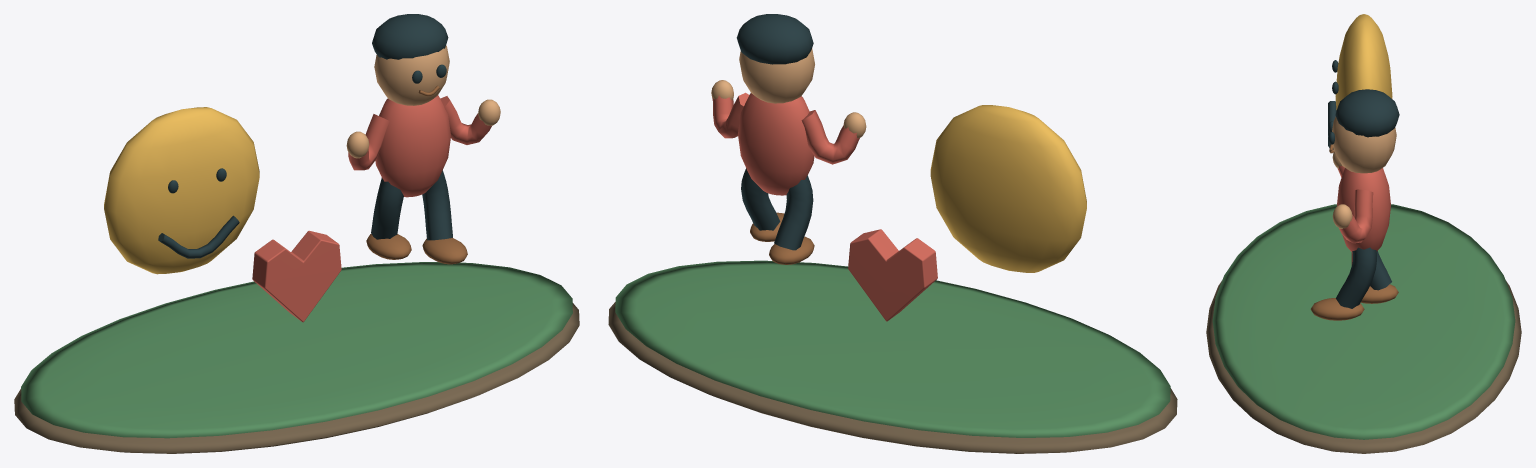
Rendered from complete-first-delight-and-joy.glb.
3 renders of one model, left to right at view 1: azimuth 30°, elevation 25°; view 2: azimuth 150°, elevation 25°; view 3: azimuth 270°, elevation 25°, orthographic. The views are drawn at different scales.
Parts seen in each view (by area): view 1: complete-first-delight-and-joy_surface_01, complete-first-delight-and-joy_surface_02, complete-first-delight-and-joy_surface_06, complete-first-delight-and-joy_surface_00, complete-first-delight-and-joy_surface_03, complete-first-delight-and-joy_surface_04, complete-first-delight-and-joy_surface_05; view 2: complete-first-delight-and-joy_surface_01, complete-first-delight-and-joy_surface_02, complete-first-delight-and-joy_surface_06, complete-first-delight-and-joy_surface_00, complete-first-delight-and-joy_surface_03, complete-first-delight-and-joy_surface_04, complete-first-delight-and-joy_surface_05; view 3: complete-first-delight-and-joy_surface_01, complete-first-delight-and-joy_surface_00, complete-first-delight-and-joy_surface_03, complete-first-delight-and-joy_surface_06, complete-first-delight-and-joy_surface_02, complete-first-delight-and-joy_surface_04, complete-first-delight-and-joy_surface_05.
Boxes of the visible parts, x1=… form: complete-first-delight-and-joy_surface_01: x1=21, y1=262, x2=572, y2=438; complete-first-delight-and-joy_surface_02: x1=104, y1=107, x2=259, y2=274; complete-first-delight-and-joy_surface_06: x1=252, y1=95, x2=491, y2=322; complete-first-delight-and-joy_surface_00: x1=14, y1=303, x2=579, y2=453; complete-first-delight-and-joy_surface_03: x1=158, y1=14, x2=452, y2=258; complete-first-delight-and-joy_surface_04: x1=346, y1=45, x2=500, y2=158; complete-first-delight-and-joy_surface_05: x1=366, y1=85, x2=467, y2=264; complete-first-delight-and-joy_surface_01: x1=615, y1=260, x2=1170, y2=437; complete-first-delight-and-joy_surface_02: x1=930, y1=105, x2=1086, y2=272; complete-first-delight-and-joy_surface_06: x1=712, y1=92, x2=937, y2=321; complete-first-delight-and-joy_surface_00: x1=608, y1=302, x2=1177, y2=453; complete-first-delight-and-joy_surface_03: x1=736, y1=14, x2=813, y2=250; complete-first-delight-and-joy_surface_04: x1=711, y1=48, x2=866, y2=138; complete-first-delight-and-joy_surface_05: x1=750, y1=212, x2=814, y2=264; complete-first-delight-and-joy_surface_01: x1=1212, y1=204, x2=1515, y2=439; complete-first-delight-and-joy_surface_00: x1=1206, y1=281, x2=1521, y2=453; complete-first-delight-and-joy_surface_03: x1=1328, y1=60, x2=1399, y2=308; complete-first-delight-and-joy_surface_06: x1=1337, y1=165, x2=1390, y2=265; complete-first-delight-and-joy_surface_02: x1=1335, y1=14, x2=1392, y2=109; complete-first-delight-and-joy_surface_04: x1=1332, y1=116, x2=1396, y2=228; complete-first-delight-and-joy_surface_05: x1=1310, y1=144, x2=1398, y2=320.
Size of the model in its own units: 4.56 by 2.67 by 2.5.
